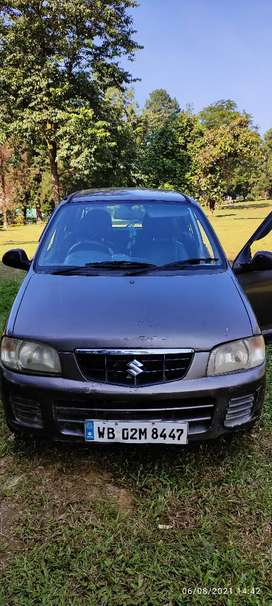WB02M8447: (83, 420, 187, 445)
